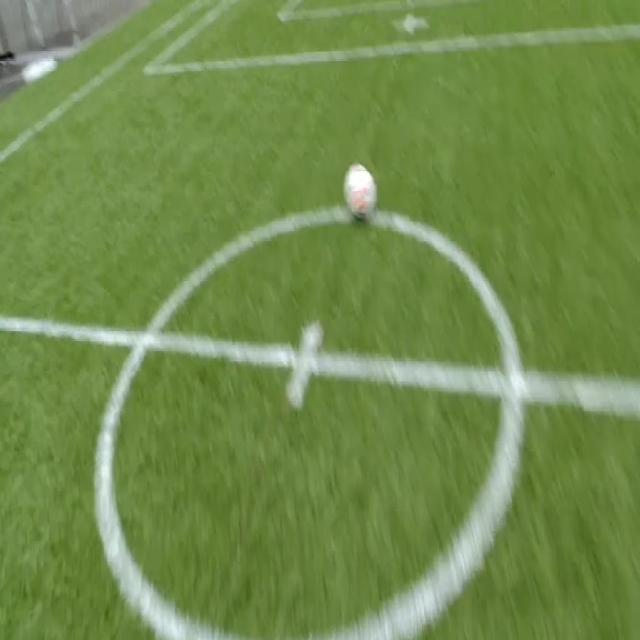ball: (343, 163, 376, 219)
